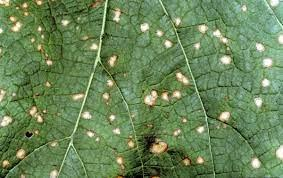Bok-Choy-Diseased: (1, 0, 283, 178)
